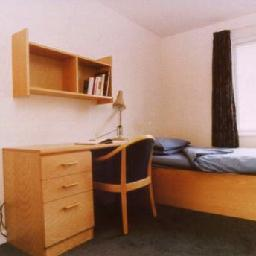Cama: (158, 135, 255, 219)
